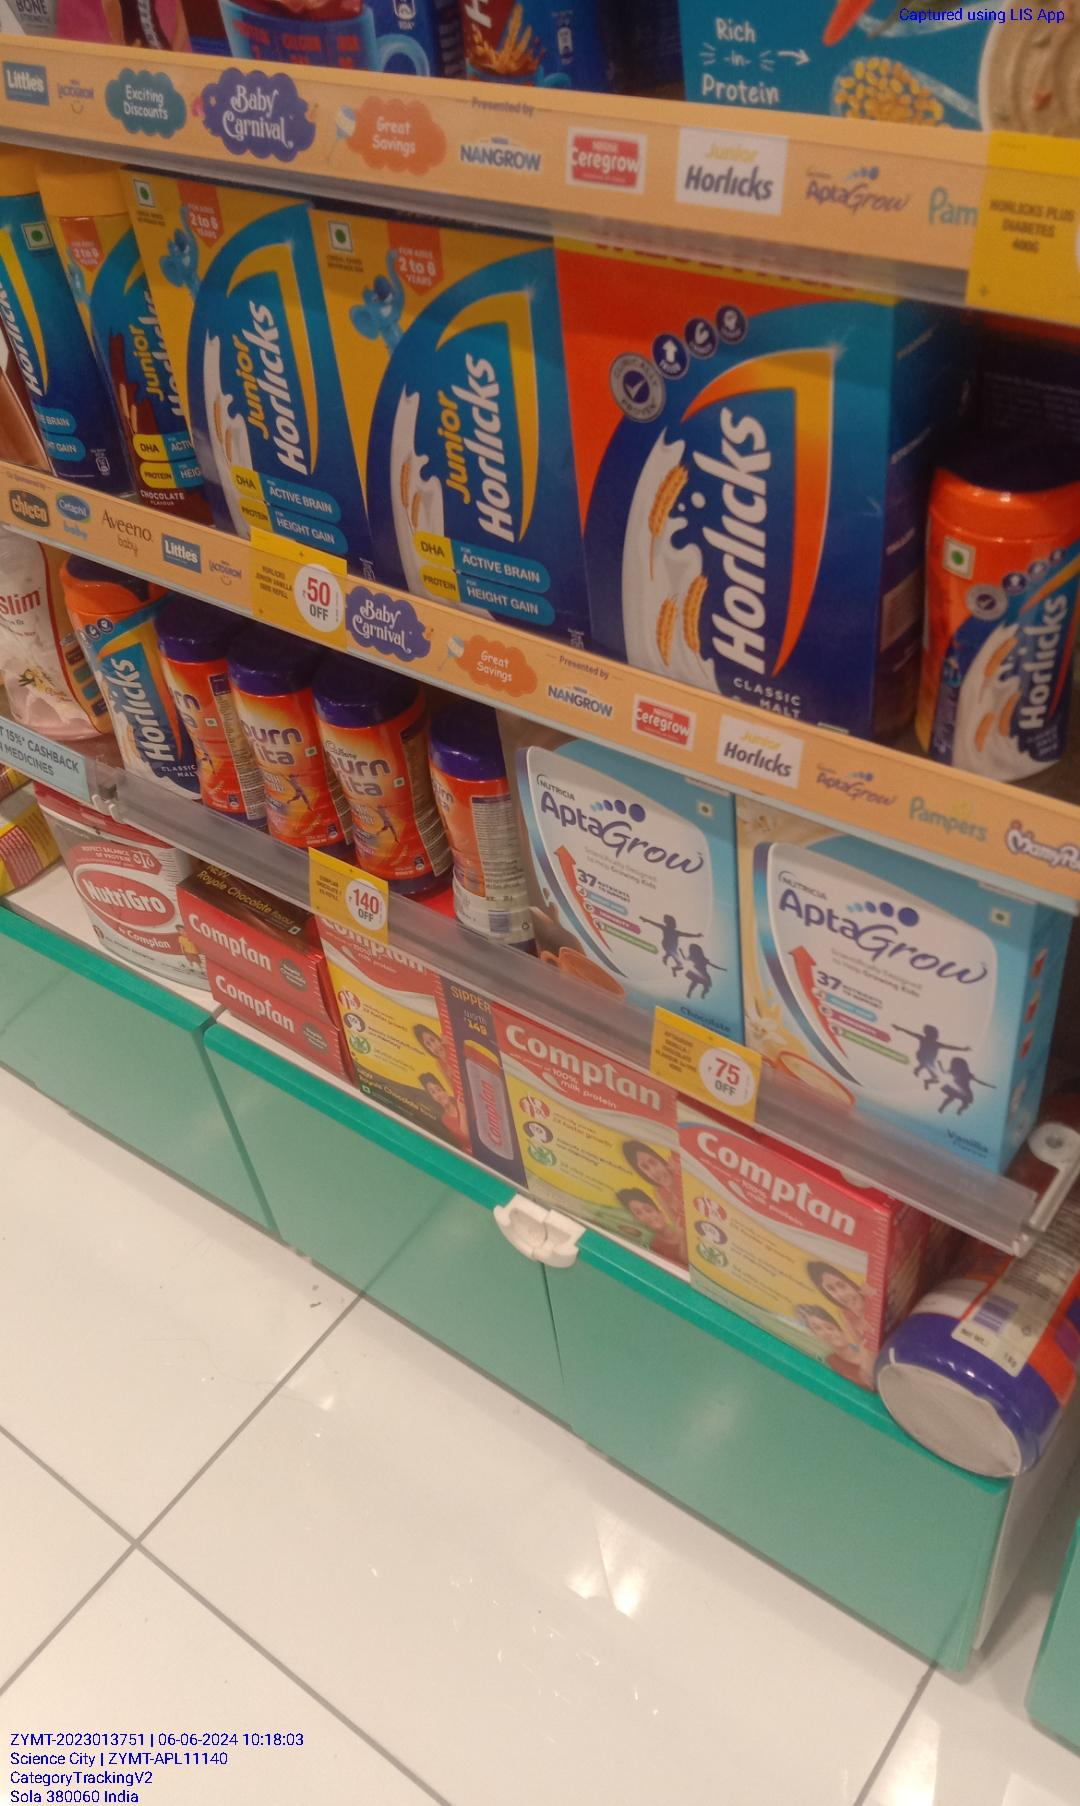HORLICK_CLASSIC_MALT_200_G_JAR: (915, 470, 1075, 783)
